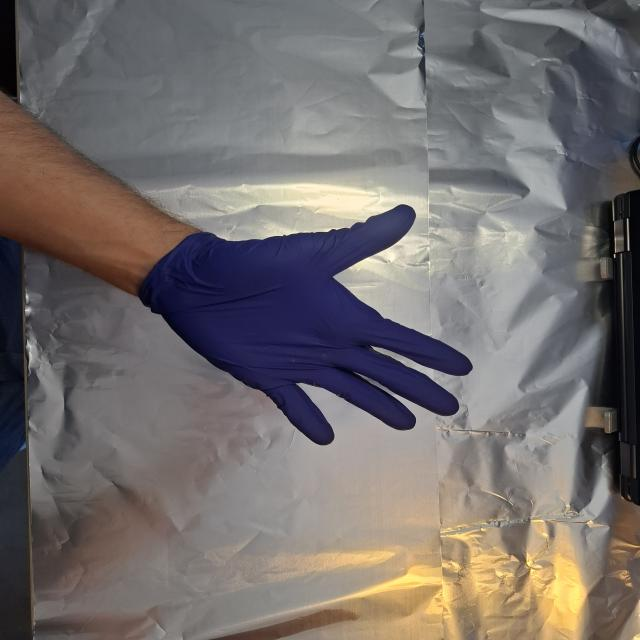glove_on: (137, 203, 476, 447)
